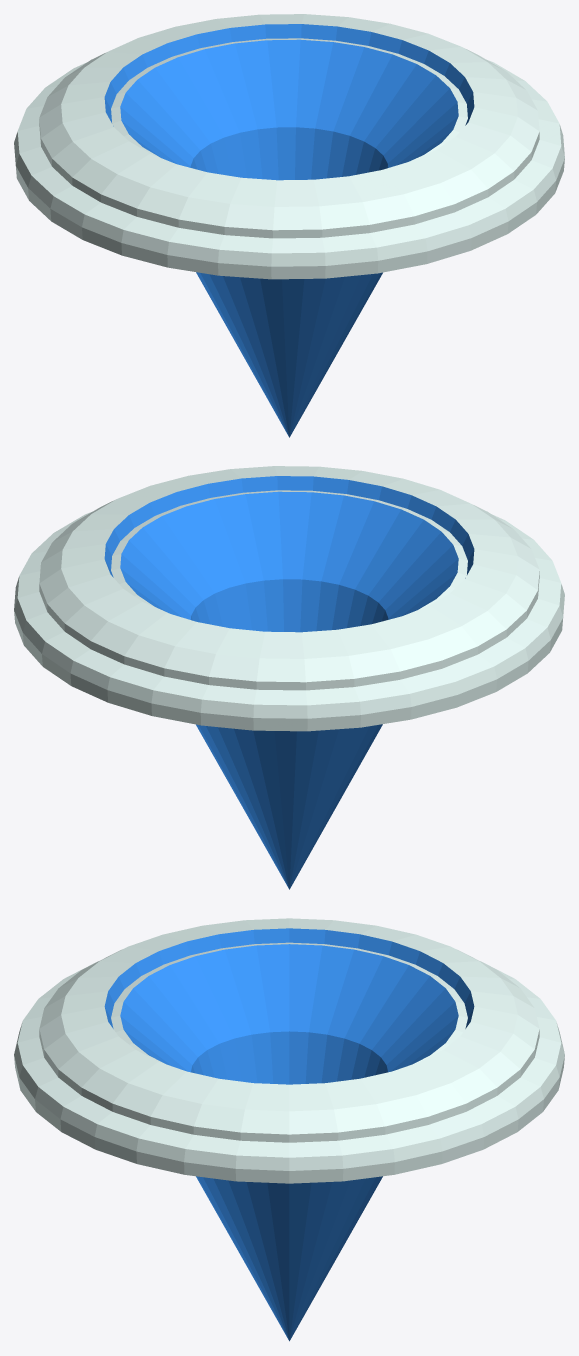
File: Waterspout.glb
The picture shows the model from 3 angles, top to bottom: view 1: azimuth 30°, elevation 25°; view 2: azimuth 150°, elevation 25°; view 3: azimuth 270°, elevation 25°; orthographic projection.
Parts seen in each view (by area): view 1: Cone; view 2: Cone; view 3: Cone.
Part boxes in pixels (bbox=[...]): Cone: bbox=[14, 14, 564, 437]; Cone: bbox=[14, 466, 564, 889]; Cone: bbox=[14, 918, 564, 1341].
Bounding box in the file's own units: 2.98 × 2 × 2.98.
Materials: 1 (1 with a texture image).
